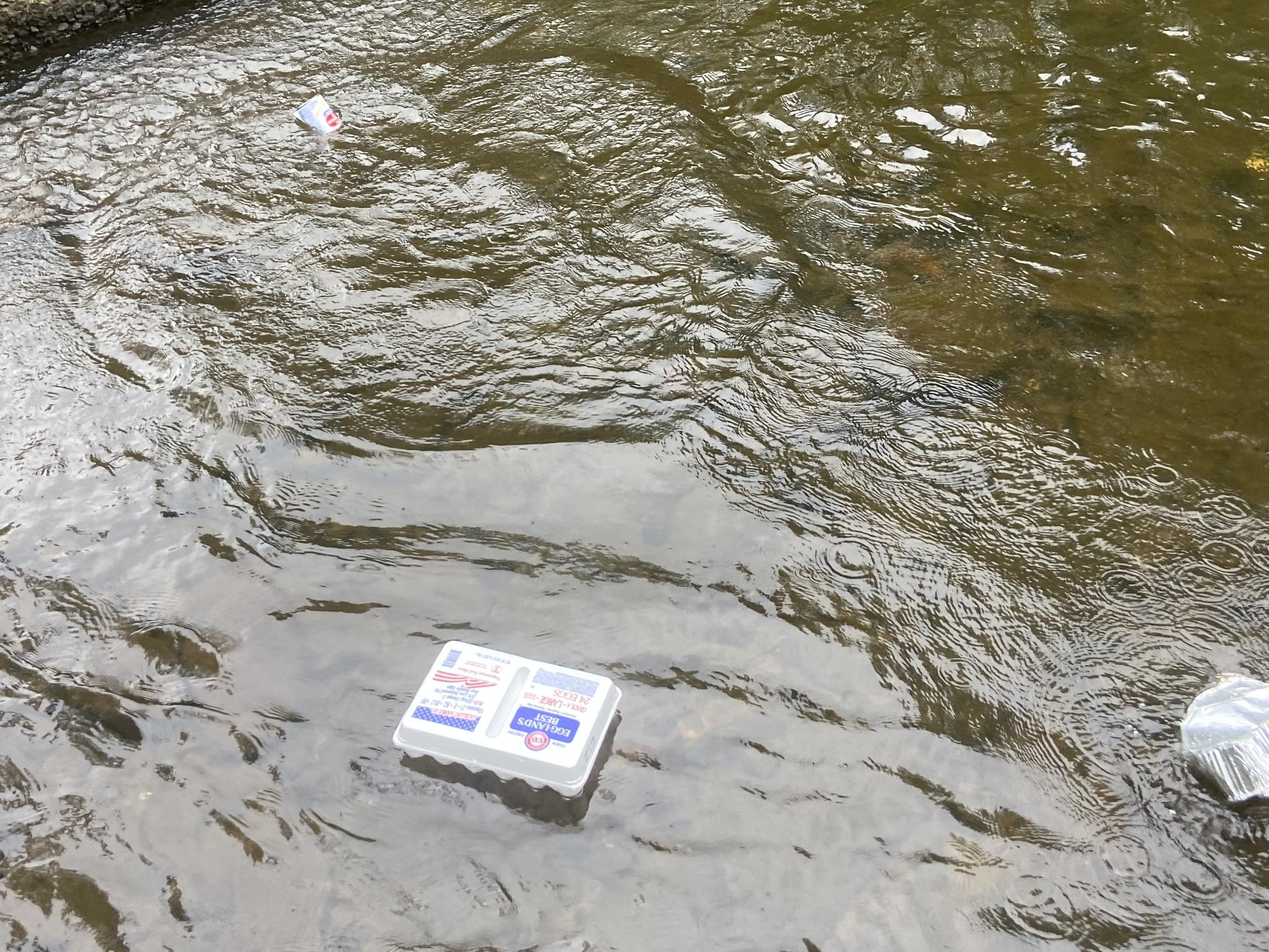metal: (1166, 662, 1269, 812), (290, 88, 347, 145)
plastic: (381, 631, 628, 800)
